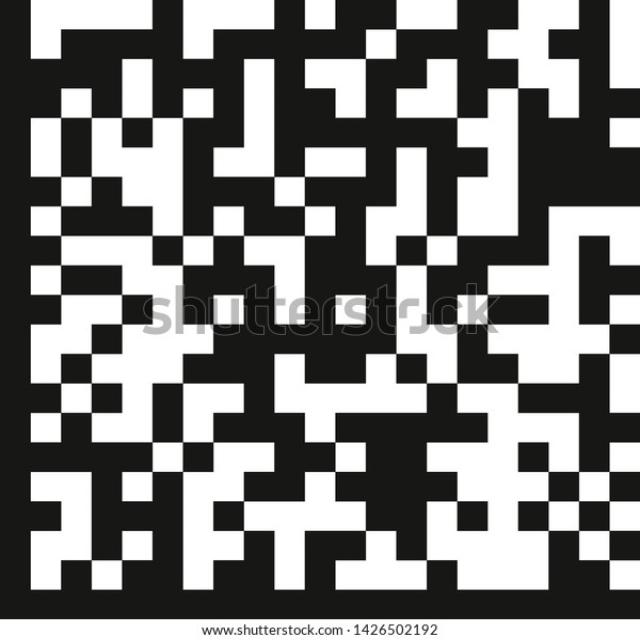datamatrix: (1, 1, 640, 620)
